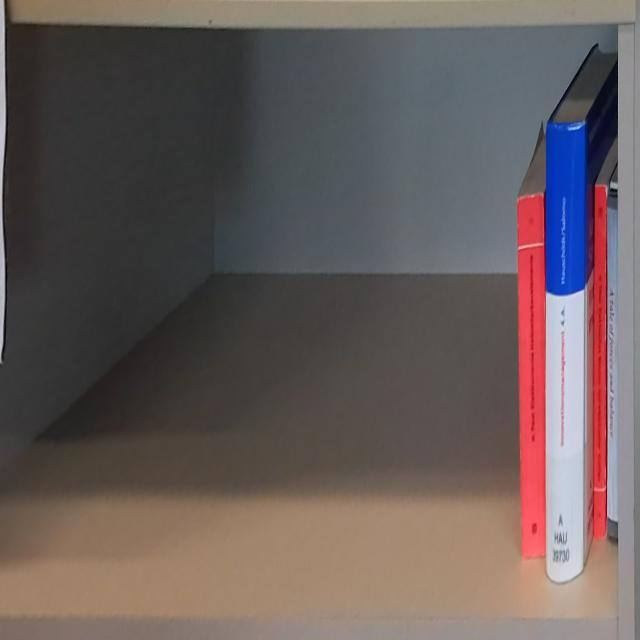Book Spine: (544, 118, 587, 583), (518, 194, 545, 559), (593, 184, 607, 539), (606, 186, 618, 539)
